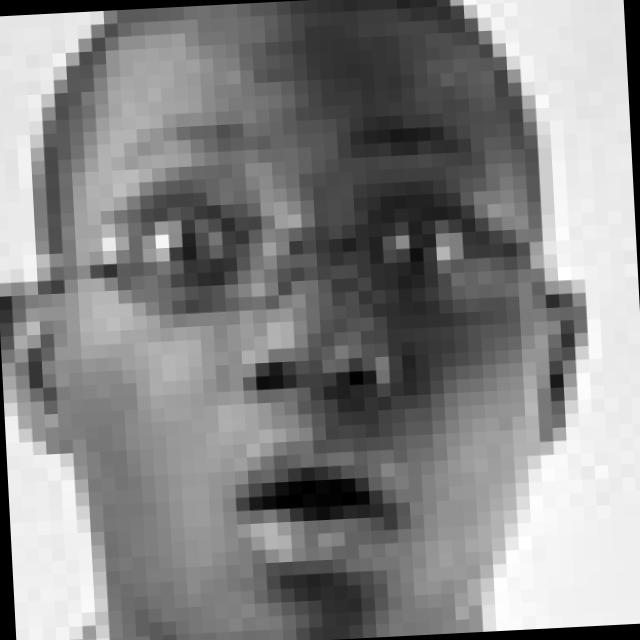surprise: (94, 97, 515, 596)
